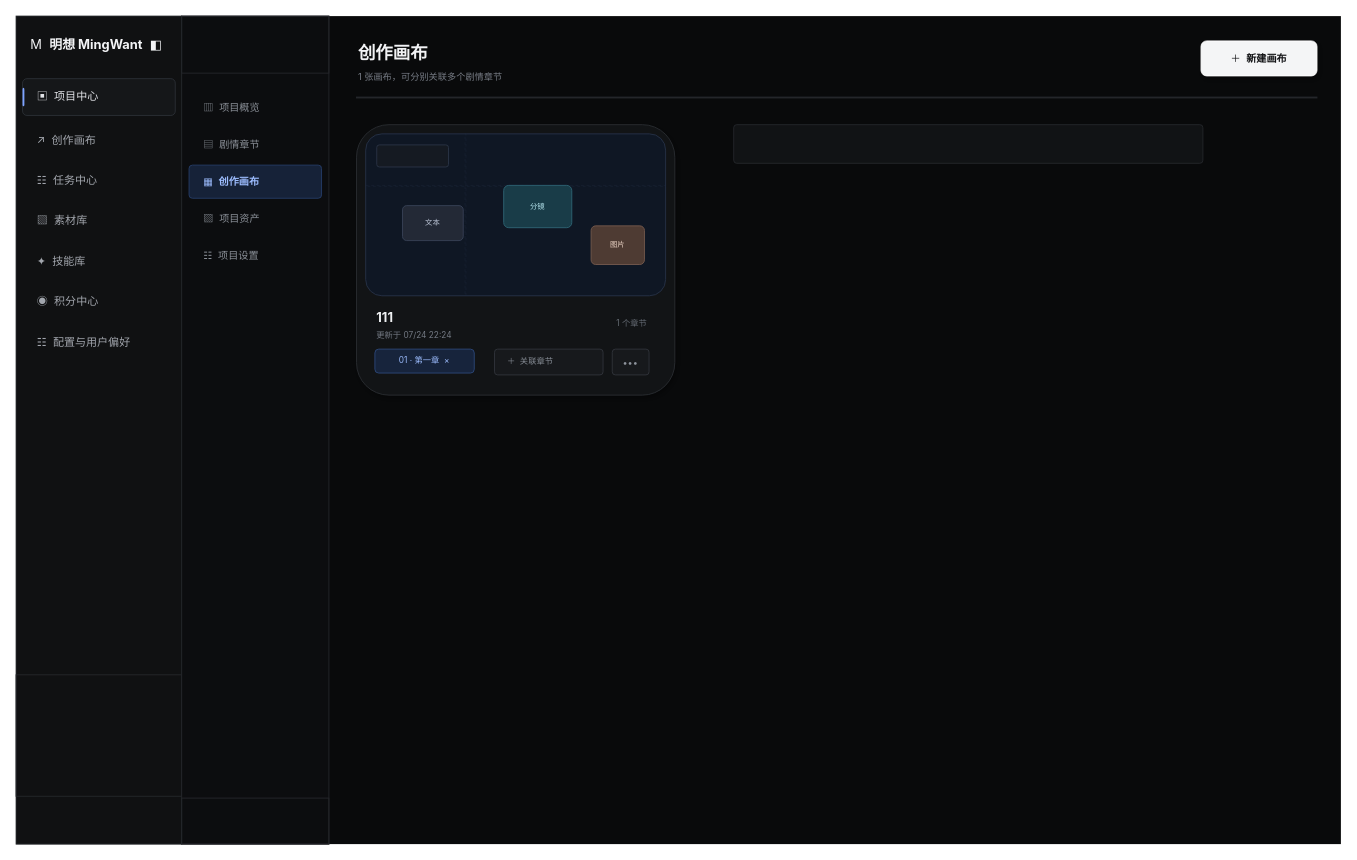
Some shapes in this 1357 by 860 pixel diagram are drawn without their labels. Each missing label, with the centre of its shape:
"9:16 · 导入小说" belongs at point 255,820.
"‹ ▱ 测试项目 1 ● 进行中" belongs at point 255,44.
"▦ 画布 01" belongs at point 412,155.
"◐ 深色模式 ● ♢ 系统公告 ▤ 更新日志" belongs at point 98,735.
"布局未变 · 默认态优化：真实节点预览、分层表面、统一描边、单一蓝色交互色、管理动作降噪。" belongs at point 968,143.
